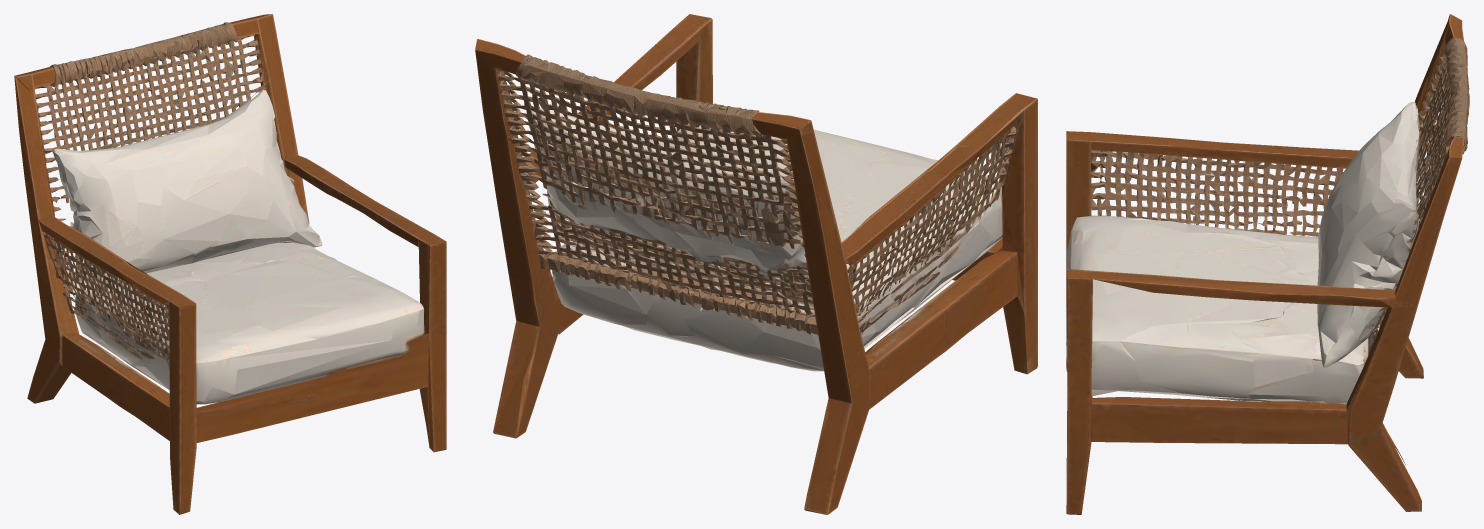
The model's file is terracoChair.glb.
The picture shows the model from 3 angles, left to right: view 1: azimuth 30°, elevation 25°; view 2: azimuth 150°, elevation 25°; view 3: azimuth 270°, elevation 25°; orthographic projection. The views are drawn at different scales.
Bounding box in the file's own units: 1.66 × 1.84 × 1.9.
1 material, 1 textured.
